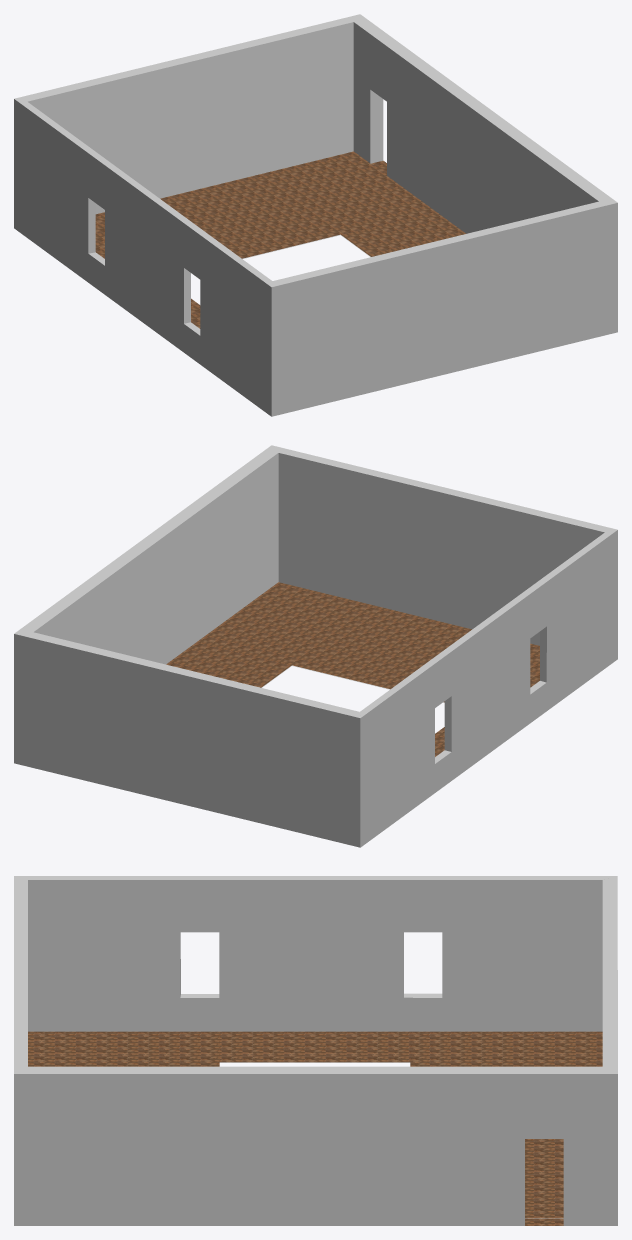
File: stairwell_4R.fbx
The picture shows the model from 3 angles, top to bottom: view 1: azimuth 30°, elevation 25°; view 2: azimuth 150°, elevation 25°; view 3: azimuth 270°, elevation 25°; orthographic projection. The views are drawn at different scales.
Parts seen in each view (by area): view 1: Classroom 1.051; view 2: Classroom 1.051; view 3: Classroom 1.051.
Boxes of the visible parts, x1,y1,x2,y2 form: Classroom 1.051: (14, 14, 617, 416); Classroom 1.051: (14, 445, 617, 847); Classroom 1.051: (14, 876, 617, 1225).
Bounding box in the file's own units: 1907 × 686 × 2457.
